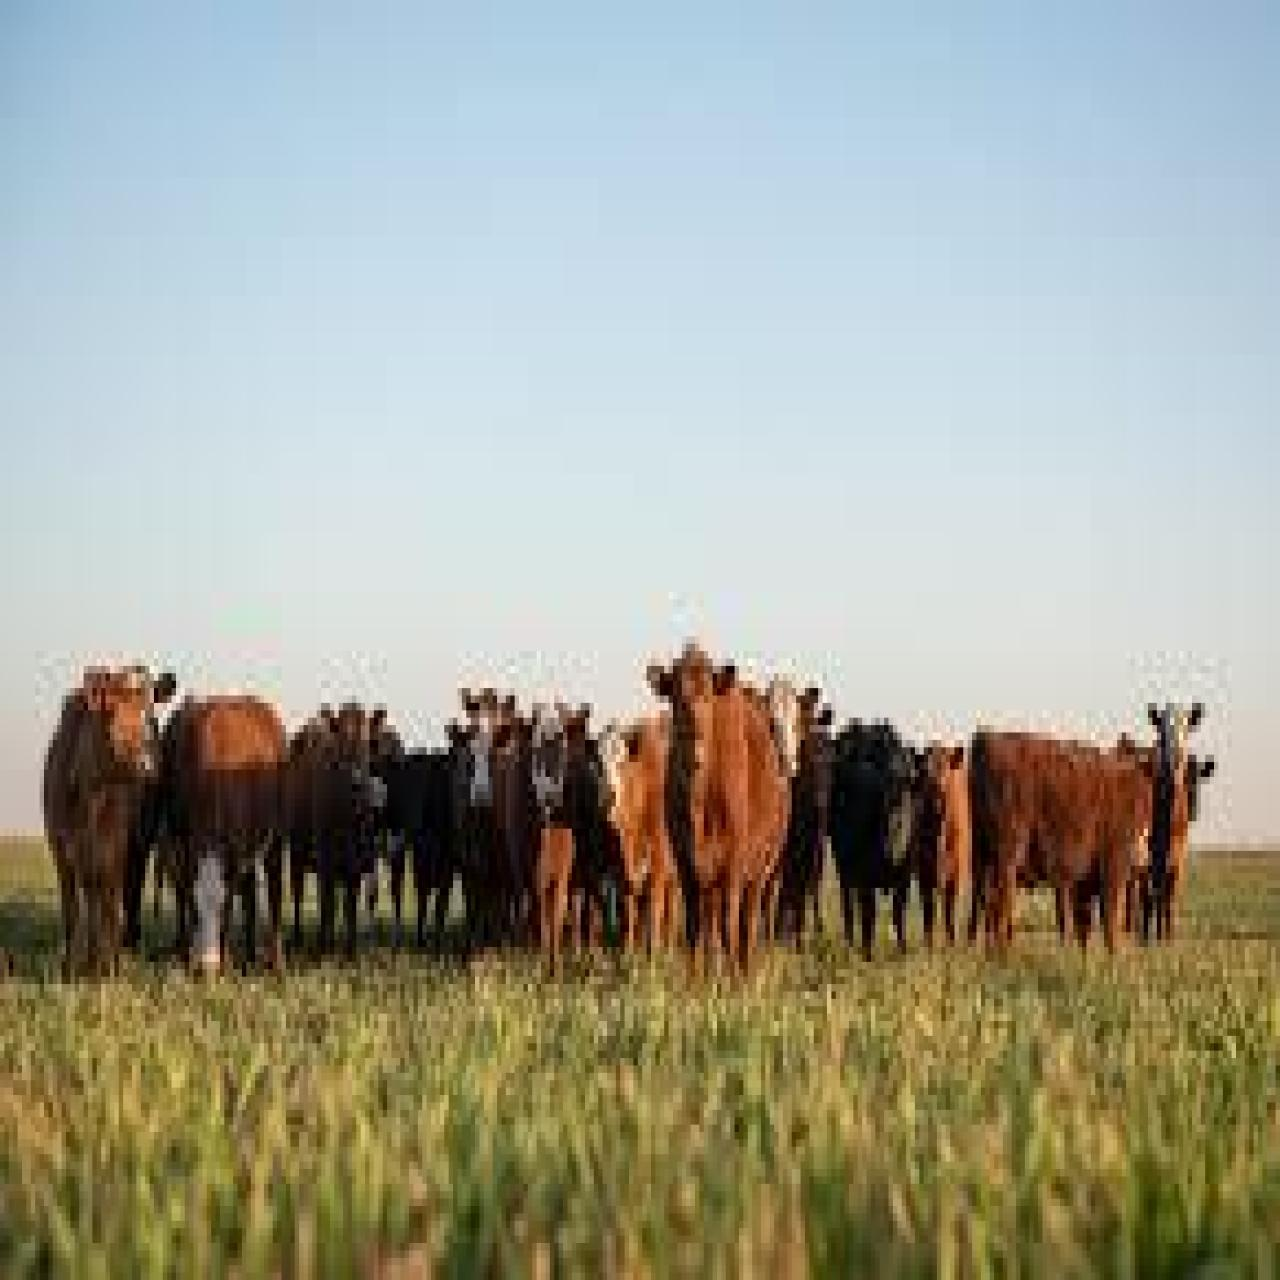cow: (968, 721, 1218, 951), (662, 651, 798, 969), (38, 652, 178, 955), (151, 688, 293, 932), (284, 695, 394, 933), (519, 717, 607, 976), (825, 714, 926, 937), (585, 722, 673, 944), (768, 685, 833, 944), (379, 729, 457, 944), (454, 685, 515, 959), (911, 736, 972, 937)
